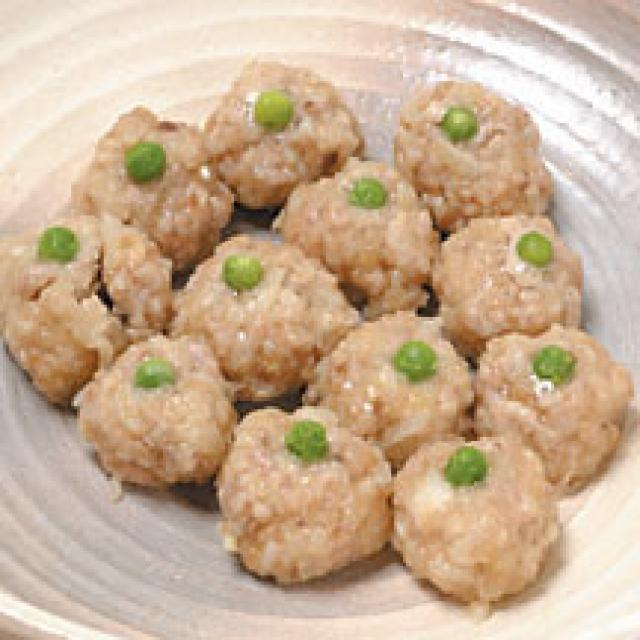带馅早点: (0, 31, 640, 615)
